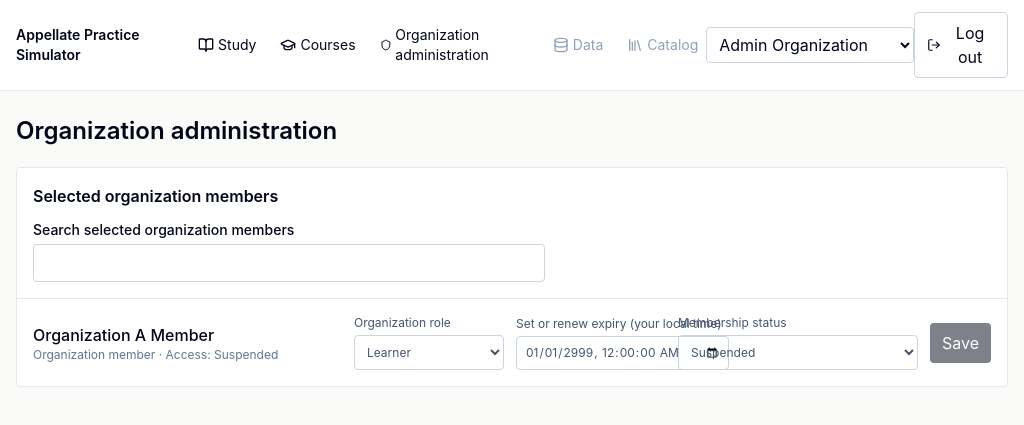
Scenario: organization scoped route access › blocks reactivation when a suspended membership has a parseable non-UTC expiry
expect the text "Organization member · Access: Suspended" is shown: met, box [33,346,278,362]
Select "Active" in the dropdown named "Status for Organization A Member" at {"x": 798, "y": 352}, box [678,335,918,370]
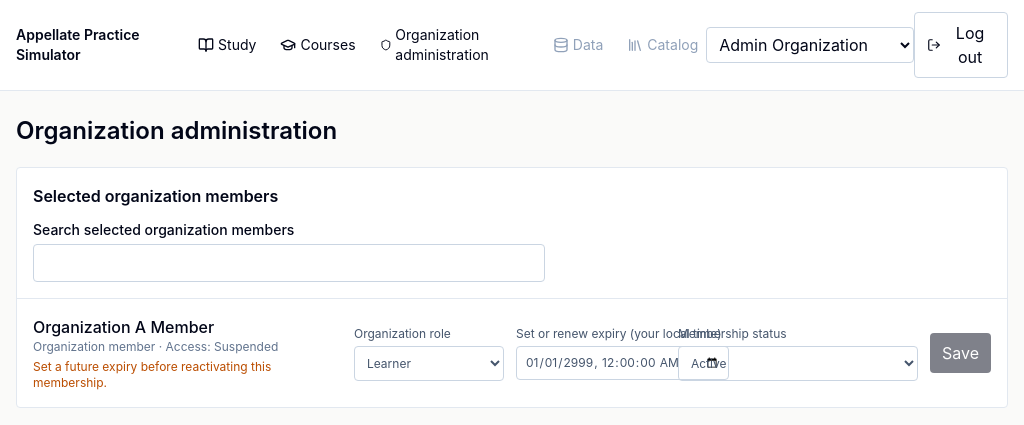
expect the button "Save" is disabled: met, box [930,333,991,373]
expect the text "Set a future expiry before reactivating this membership." is shown: met, box [33,359,271,390]
